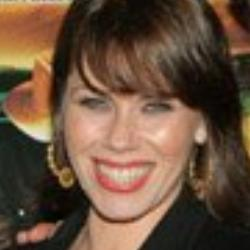face: (29, 2, 248, 223)
